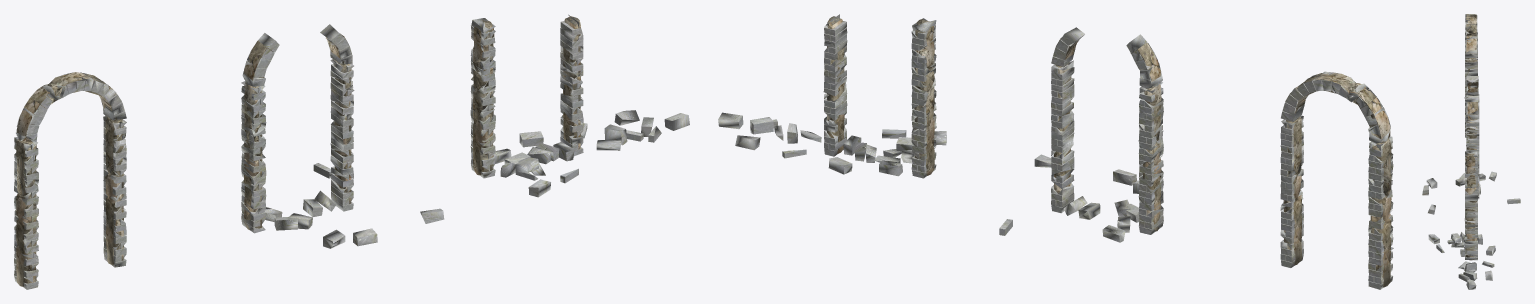
File: arch-ruins.lod0.glb
3 renders of one model, left to right at view 1: azimuth 30°, elevation 25°; view 2: azimuth 150°, elevation 25°; view 3: azimuth 270°, elevation 25°, orthographic. The views are drawn at different scales.
Parts seen in each view (by area): view 1: Object_6, Object_5; view 2: Object_6, Object_5; view 3: Object_6, Object_5.
Part boxes in pixels (left/top/right/bottom): Object_6: left=14, top=14, right=689, bottom=289; Object_5: left=16, top=16, right=580, bottom=286; Object_6: left=718, top=14, right=1393, bottom=289; Object_5: left=827, top=16, right=1391, bottom=287; Object_6: left=1422, top=14, right=1520, bottom=289; Object_5: left=1465, top=14, right=1478, bottom=260.
Bounding box in the file's own units: 17.49 × 4.92 × 4.07.
Materials: 2 (2 with a texture image).
